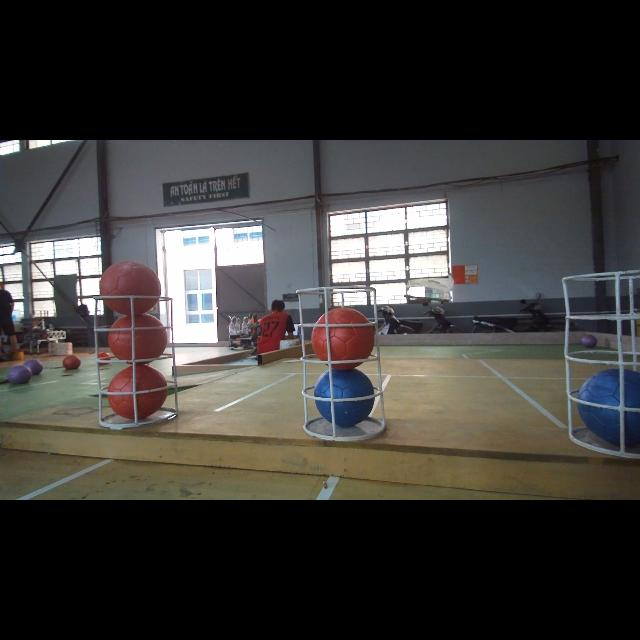B: (578, 368, 640, 448), (312, 370, 376, 430)
R: (108, 361, 170, 422), (314, 307, 378, 363), (99, 260, 160, 314), (109, 316, 169, 362)
